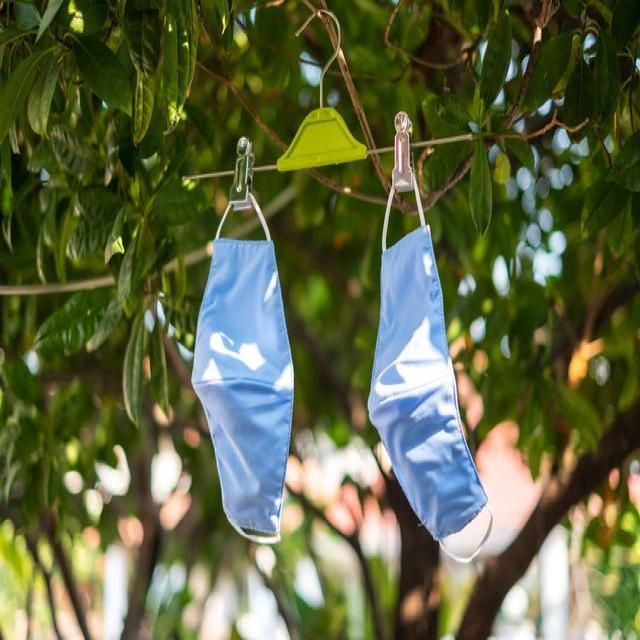face mask: (354, 152, 498, 566), (196, 175, 295, 538)
